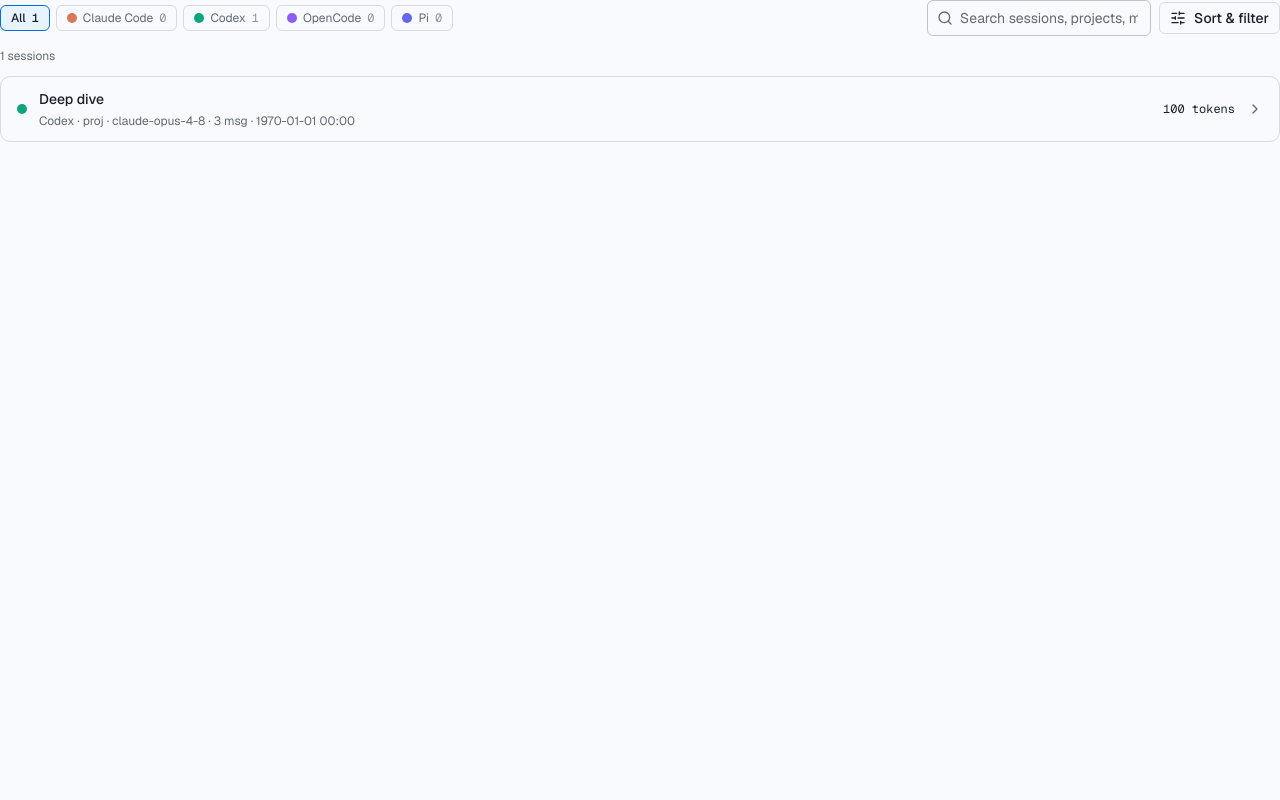
SessionBrowser › opens a transcript dialog and renders fetched messages
Click the text "Deep dive" at point(72, 99), box [39,90,104,108]
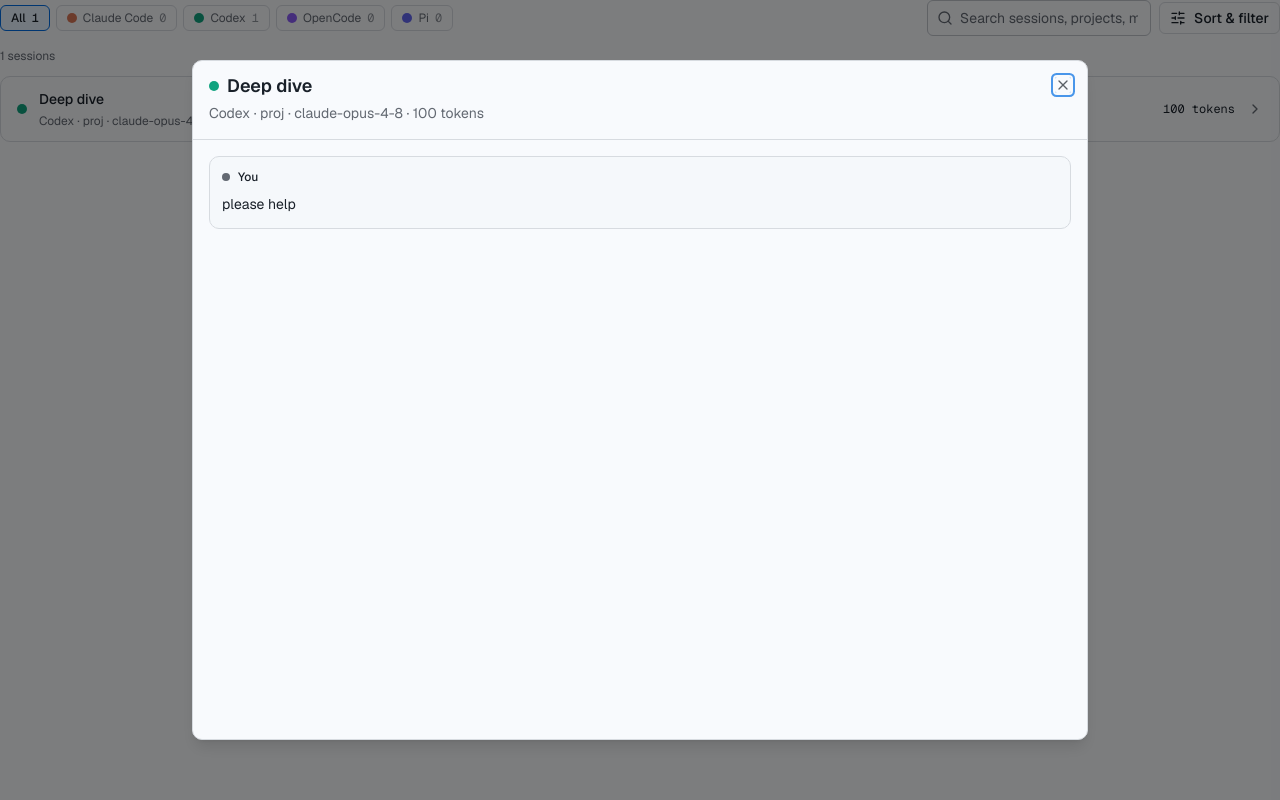
Result: the text "please help" is shown at [222,195,296,213]
